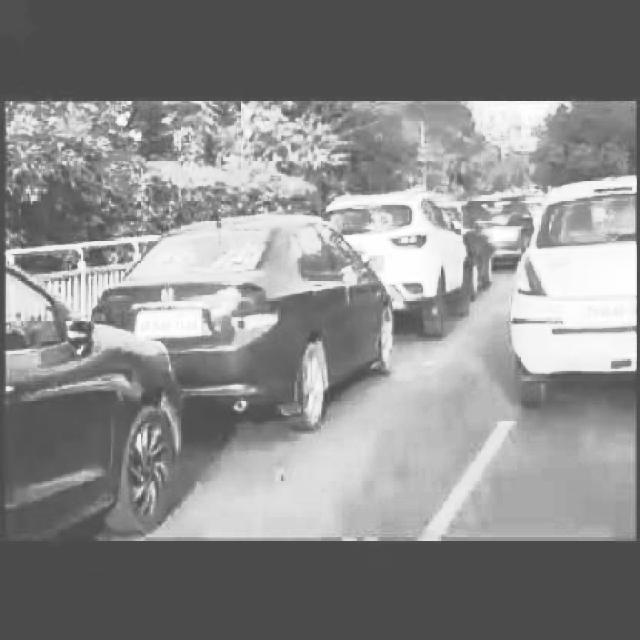Car: (0, 262, 160, 539), (192, 214, 367, 434), (524, 180, 638, 391), (380, 194, 480, 329), (470, 188, 526, 268)
